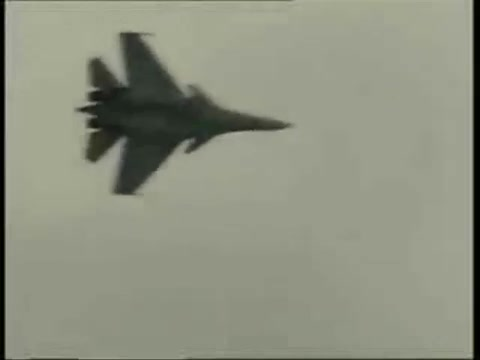aeroplane: (71, 32, 296, 199)
